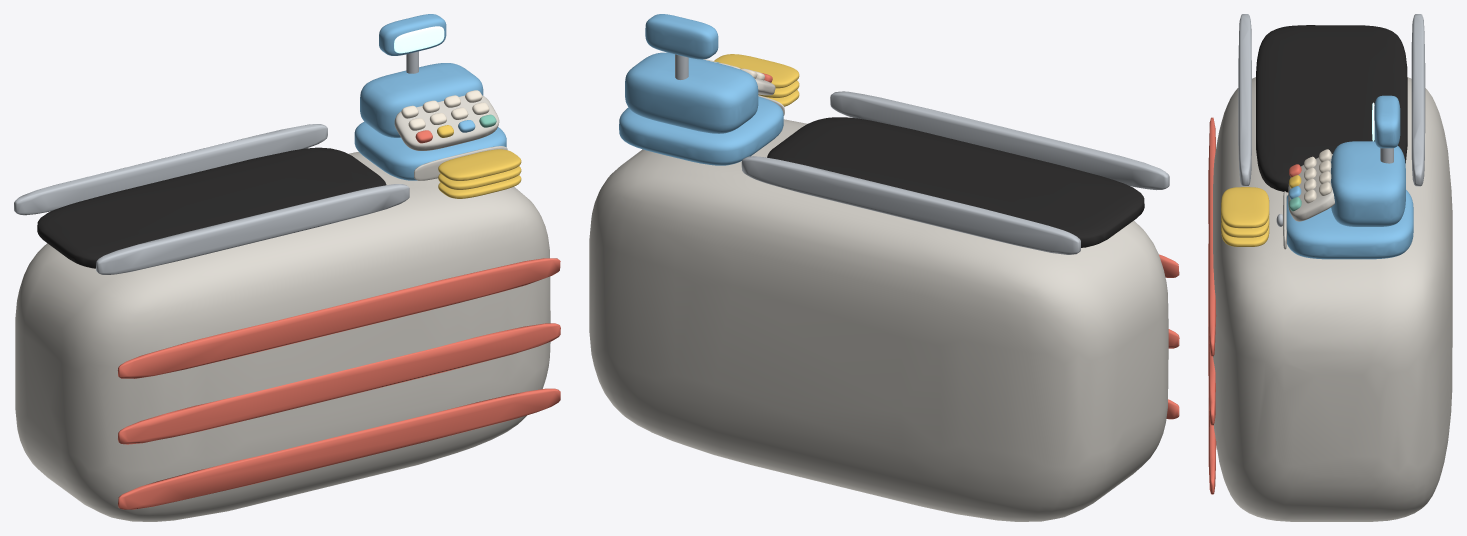
File: vitrina_caja_2.glb
3 views of the same model, side by side, from view 1: azimuth 30°, elevation 25°; view 2: azimuth 150°, elevation 25°; view 3: azimuth 270°, elevation 25° (orthographic). The views are drawn at different scales.
Visible parts, largest first — view 1: mostrador.001, banda, franja roja.002, franja roja, franja roja.001, baranda, baranda.001, cuerpo registradora.001, cajon.001, teclado.001, bolsas.002, visor.001 (+4 smaller); view 2: mostrador.001, banda, baranda.001, baranda, cuerpo registradora.001, cajon.001, visor.001, bolsas.002; view 3: mostrador.001, banda, cuerpo registradora.001, cajon.001, baranda.001, baranda, bolsas.002, franja roja.002, visor.001, teclado.001, franja roja.001, franja roja (+2 smaller).
Boxes of the visible parts, <box> form: mostrador.001: <box>15,152,550,521</box>; banda: <box>37,147,386,268</box>; franja roja.002: <box>117,258,560,378</box>; franja roja: <box>117,388,560,509</box>; franja roja.001: <box>118,323,560,444</box>; baranda: <box>96,184,409,274</box>; baranda.001: <box>14,124,327,215</box>; cuerpo registradora.001: <box>360,63,483,137</box>; cajon.001: <box>354,121,506,180</box>; teclado.001: <box>394,95,499,150</box>; bolsas.002: <box>438,149,521,180</box>; visor.001: <box>379,14,446,55</box>; mostrador.001: <box>589,119,1168,521</box>; banda: <box>767,117,1144,247</box>; baranda.001: <box>741,156,1080,254</box>; baranda: <box>830,91,1169,190</box>; cuerpo registradora.001: <box>625,52,758,133</box>; cajon.001: <box>619,96,783,165</box>; visor.001: <box>645,14,718,59</box>; bolsas.002: <box>714,54,799,88</box>; mostrador.001: <box>1213,77,1452,521</box>; banda: <box>1256,25,1407,192</box>; cuerpo registradora.001: <box>1331,141,1405,226</box>; cajon.001: <box>1286,190,1413,259</box>; baranda.001: <box>1411,14,1425,186</box>; baranda: <box>1238,14,1251,186</box>; bolsas.002: <box>1221,187,1269,228</box>; franja roja.002: <box>1208,117,1216,356</box>; visor.001: <box>1374,95,1400,148</box>; teclado.001: <box>1288,154,1334,221</box>; franja roja.001: <box>1208,244,1215,425</box>; franja roja: <box>1208,398,1216,494</box>.
Bounding box in the file's own units: 1.7 × 1.31 × 0.7062.
